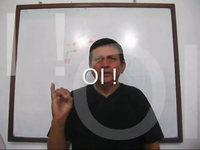oi: (47, 80, 76, 118)
